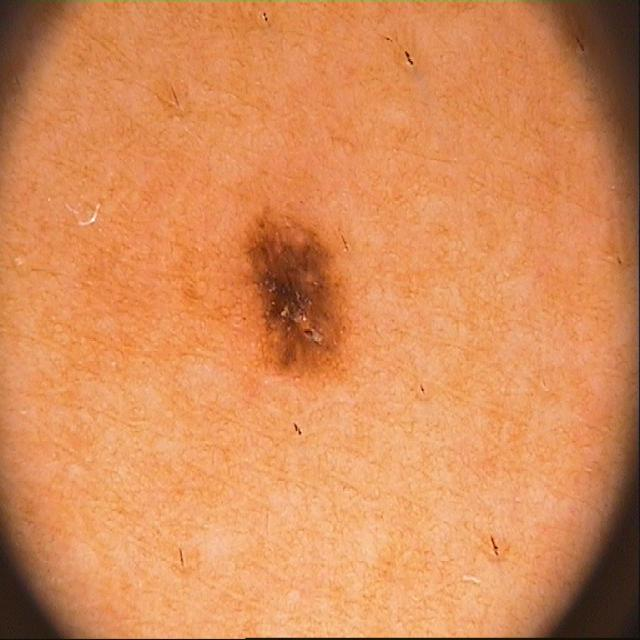Skin-Cancer Nevus: (46, 10, 582, 625)
